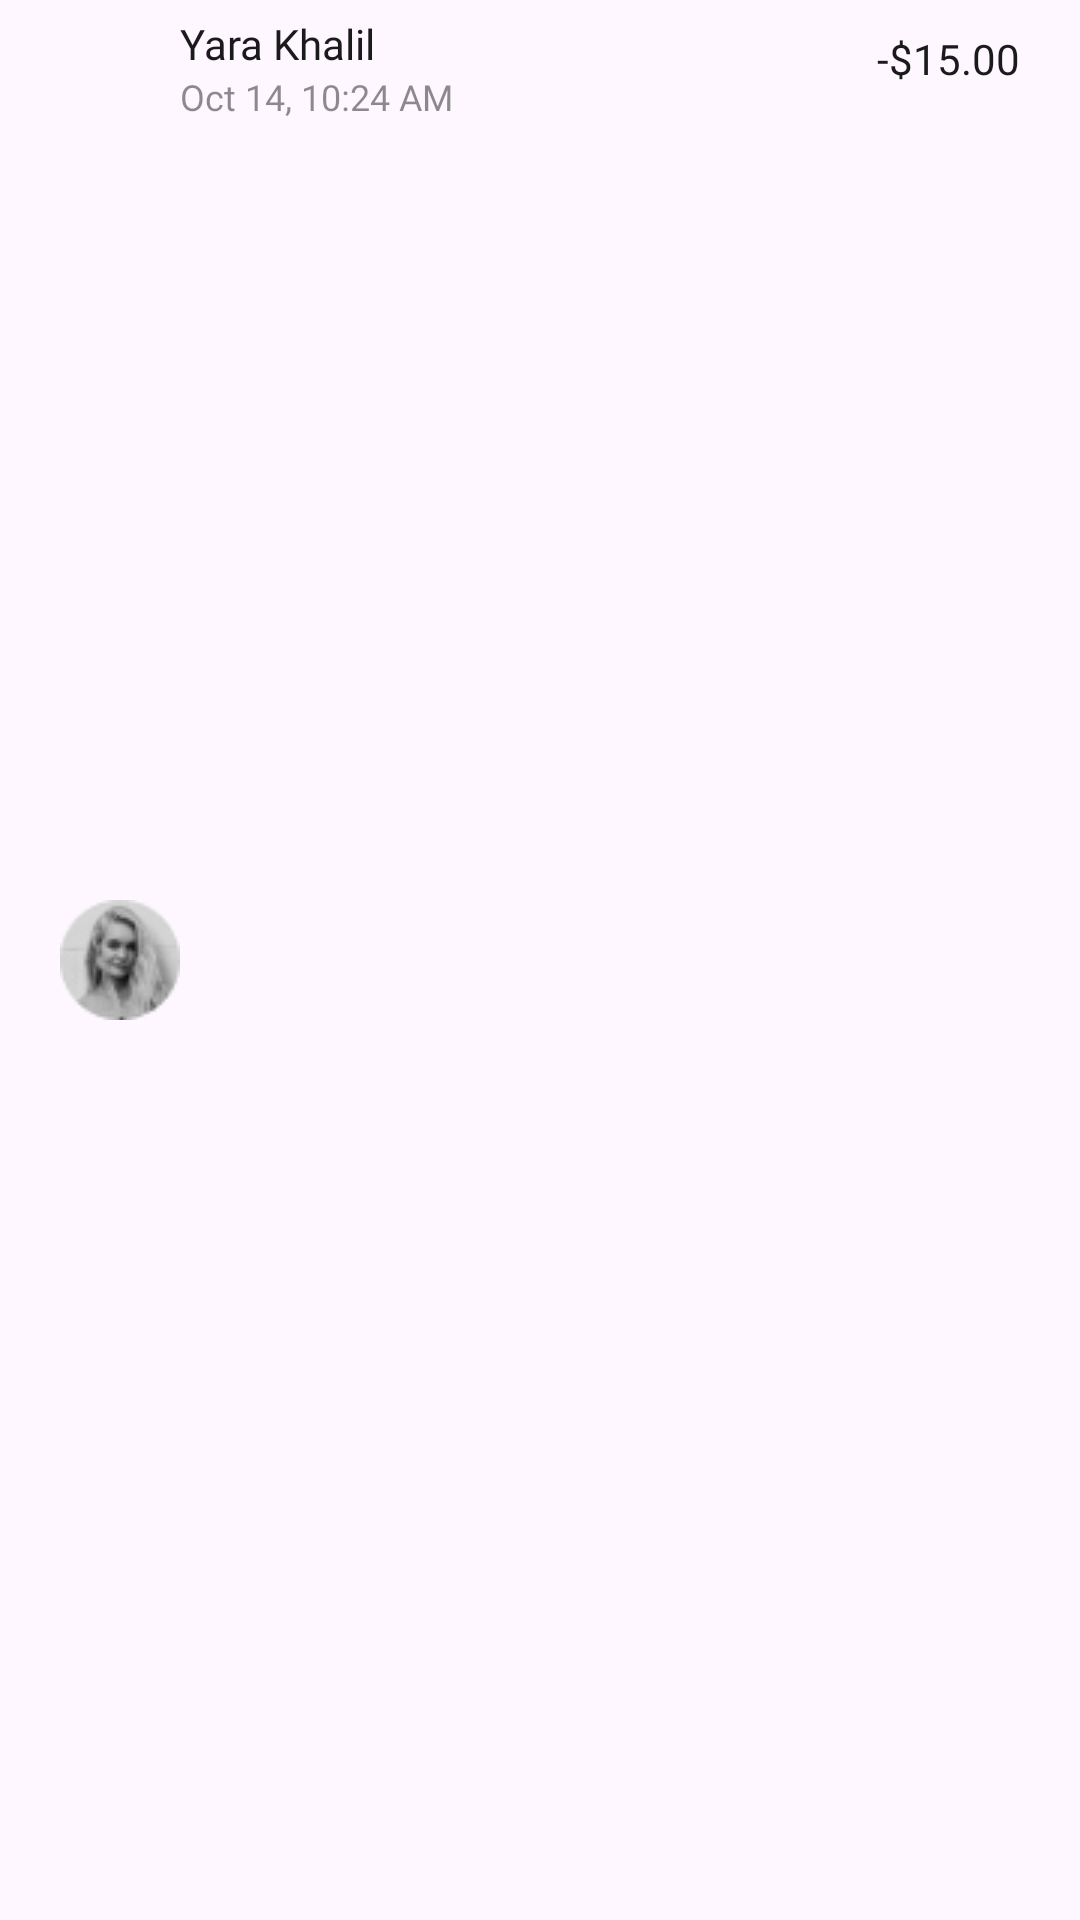

Point at icon controls on the screen. Image size 1080w x 1920h, points as (x=x, y=y).
profile: (x=120, y=960)
